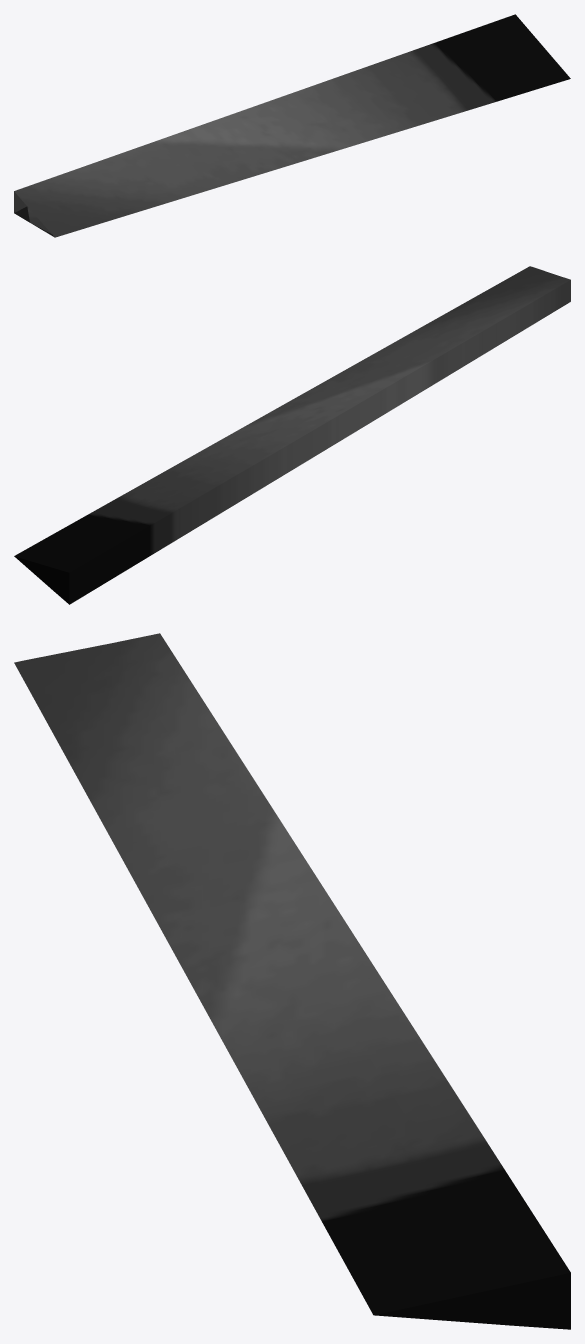
The model's file is erj195_aileron_l.obj.
3 renders of one model, top to bottom at view 1: azimuth 30°, elevation 25°; view 2: azimuth 210°, elevation 25°; view 3: azimuth 270°, elevation 25°, orthographic. The views are drawn at different scales.
Bounding box in the file's own units: 2.53 × 0.3532 × 1.11.
1 material, 1 textured.
